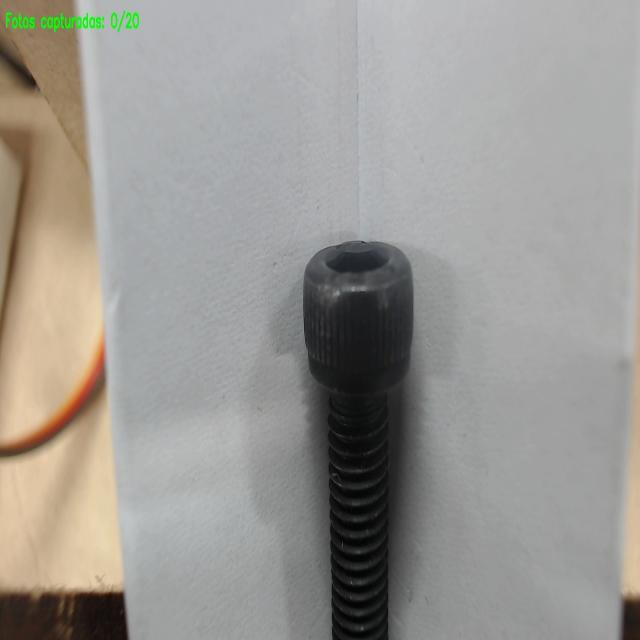vastago: (328, 396, 388, 639)
